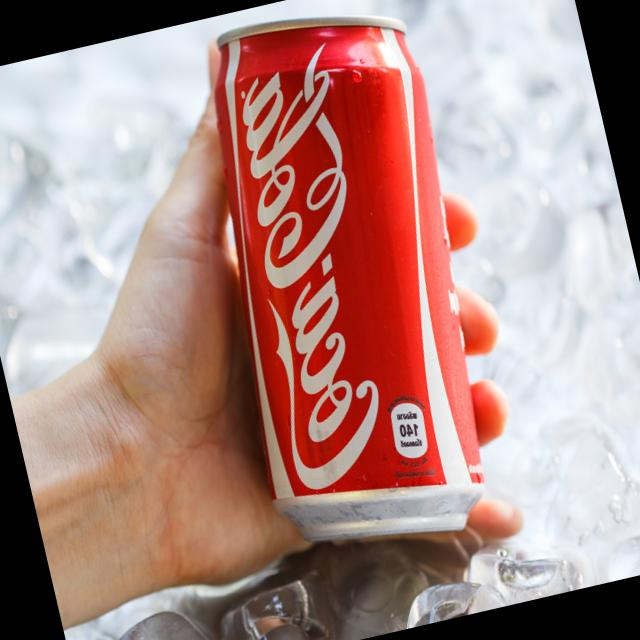cocacola: (166, 0, 527, 569)
